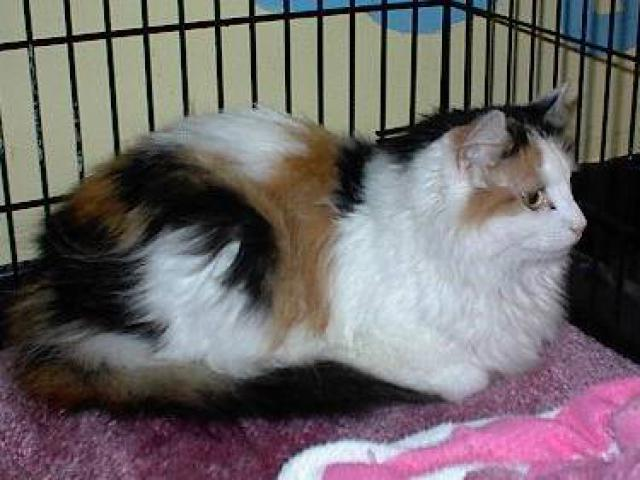cat: (18, 74, 595, 407)
